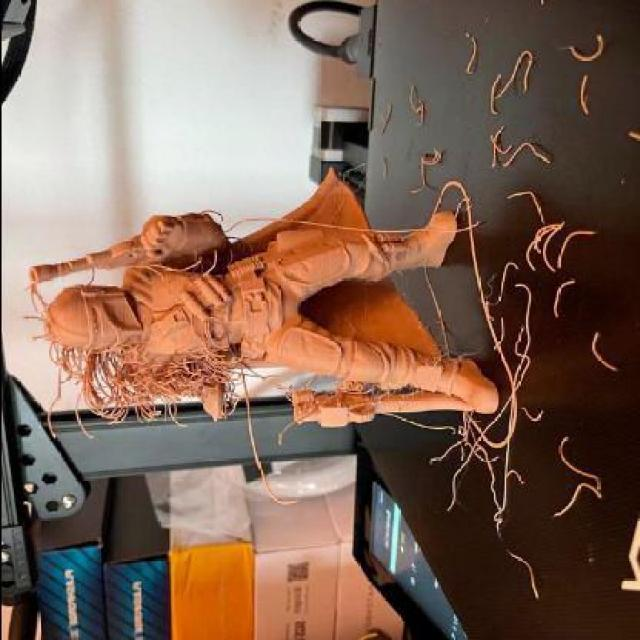spaghetti: (19, 258, 255, 443), (282, 362, 425, 425)
